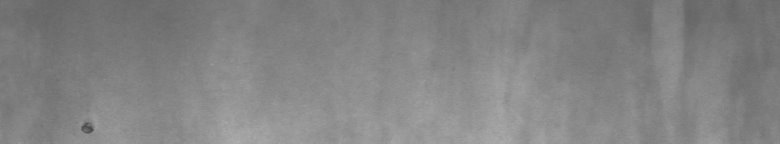fi: (77, 115, 99, 136)
